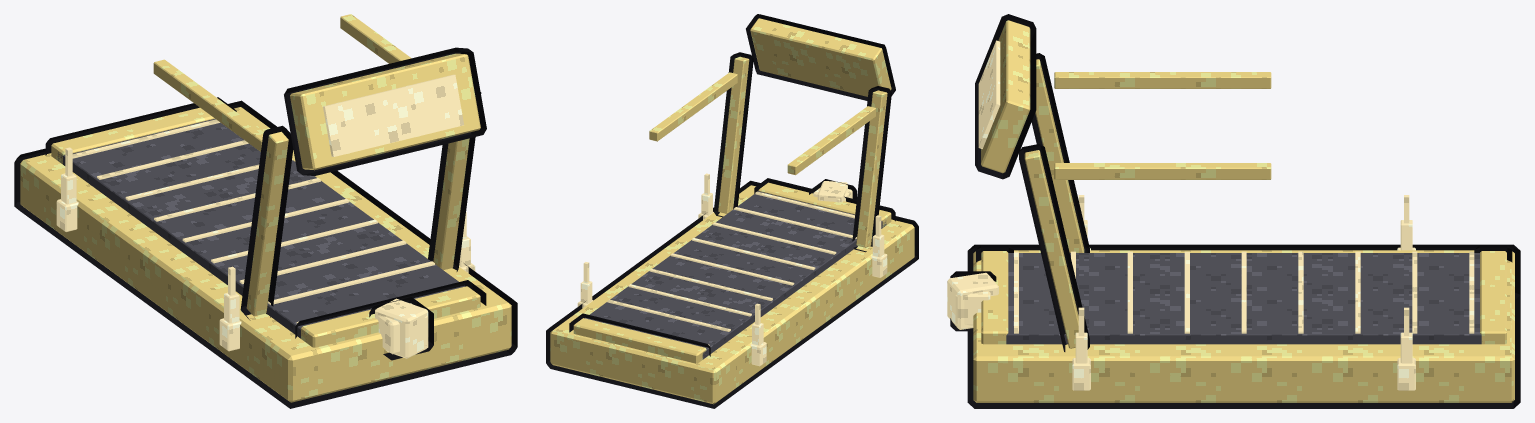
File: treadmill_04.glb
3 views of the same model, side by side, from view 1: azimuth 30°, elevation 25°; view 2: azimuth 150°, elevation 25°; view 3: azimuth 270°, elevation 25° (orthographic). The views are drawn at different scales.
Visible parts, largest first — view 1: model; view 2: model; view 3: model.
Boxes of the visible parts, bbox=[...] form: model: bbox=[14, 14, 517, 408]; model: bbox=[546, 14, 918, 408]; model: bbox=[947, 14, 1520, 408].
Bounding box in the file's own units: 1.33 × 1.54 × 2.67.
Materials: 4 (3 with a texture image).
